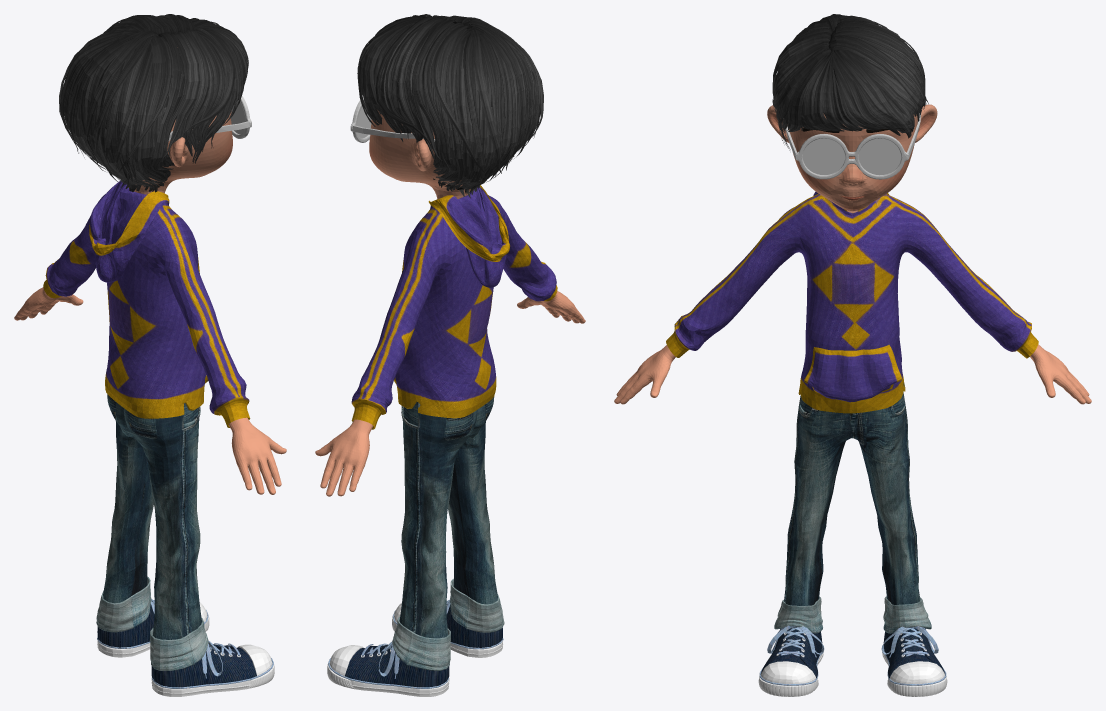
Rendered from Glassy Toon Boy.fbx.
3 renders of one model, left to right at view 1: azimuth 30°, elevation 25°; view 2: azimuth 150°, elevation 25°; view 3: azimuth 270°, elevation 25°, orthographic. The views are drawn at different scales.
Visible parts, largest first — view 1: BODY, hair, HEAD, GLASSES; view 2: BODY, hair, HEAD, GLASSES; view 3: BODY, hair, HEAD, GLASSES.
Boxes of the visible parts, <box> form: BODY: <box>14,181,286,696</box>; hair: <box>59,14,248,192</box>; HEAD: <box>134,111,232,194</box>; GLASSES: <box>168,96,251,141</box>; BODY: <box>315,185,585,696</box>; hair: <box>357,14,543,198</box>; HEAD: <box>369,110,470,199</box>; GLASSES: <box>350,97,434,142</box>; BODY: <box>614,191,1091,696</box>; hair: <box>772,14,928,150</box>; HEAD: <box>767,104,937,213</box>; GLASSES: <box>785,113,921,179</box>.
Size of the model in its own units: 6.34 by 24.43 by 16.69.
14 materials, 7 textured.
